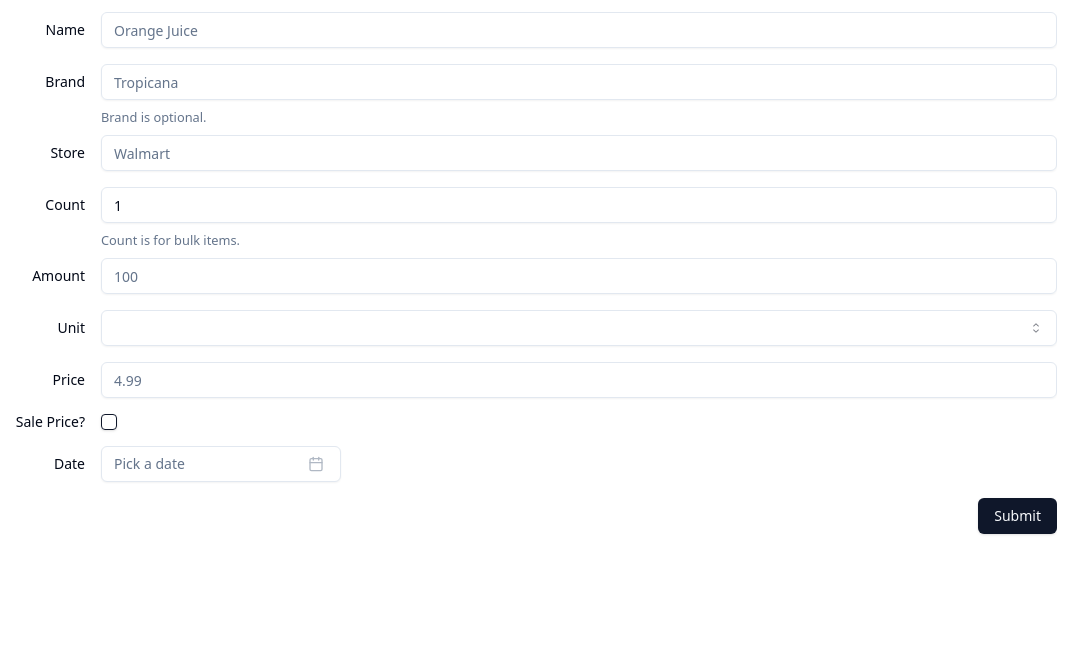
Test: AddItemForm › validation › number field › shows correct error messages non-whole number
Replace the text in the field labelled "Count" with "1.99" at (579, 205), box [101,187,1057,223]
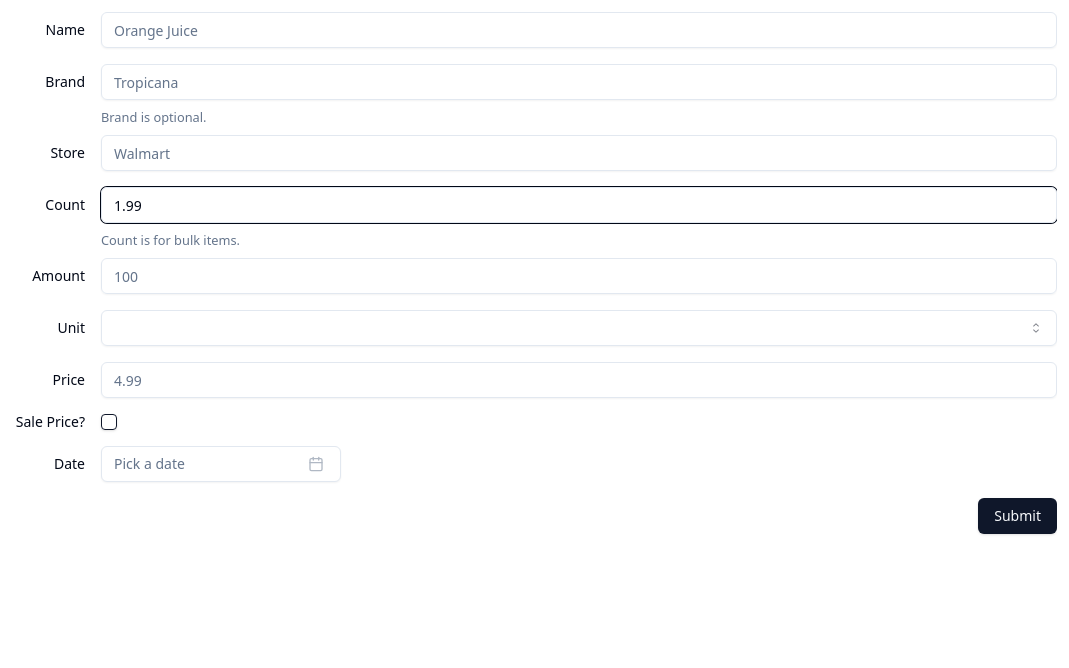
Click the button "Submit" at (1018, 516), box [978,498,1057,534]
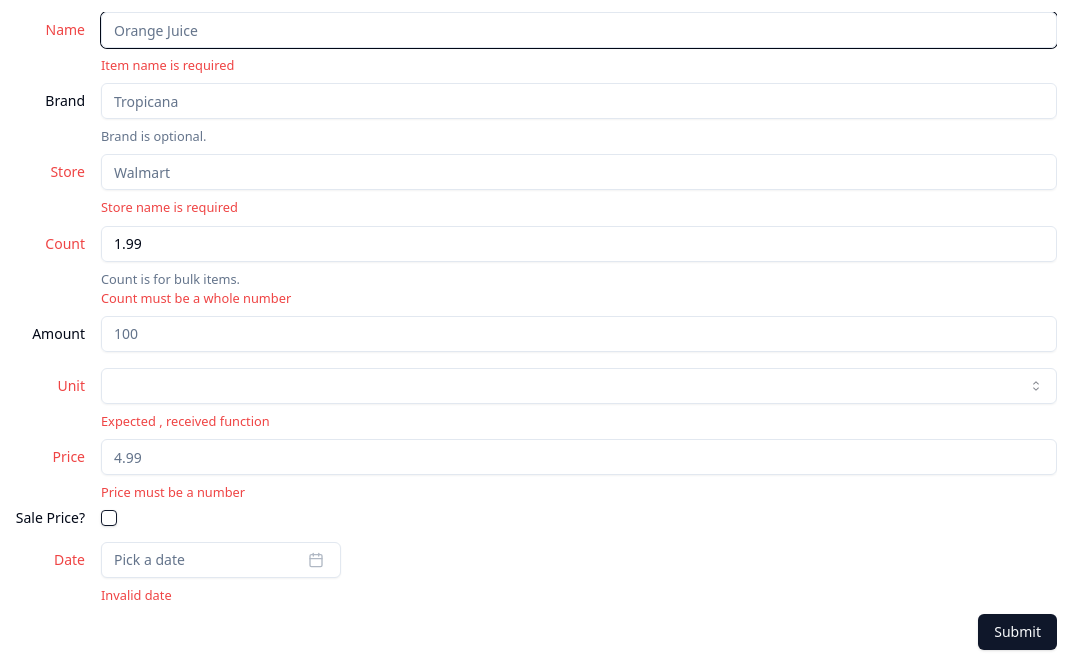
expect the text "Count must be a whole number" is shown: met, box [101,289,291,307]
